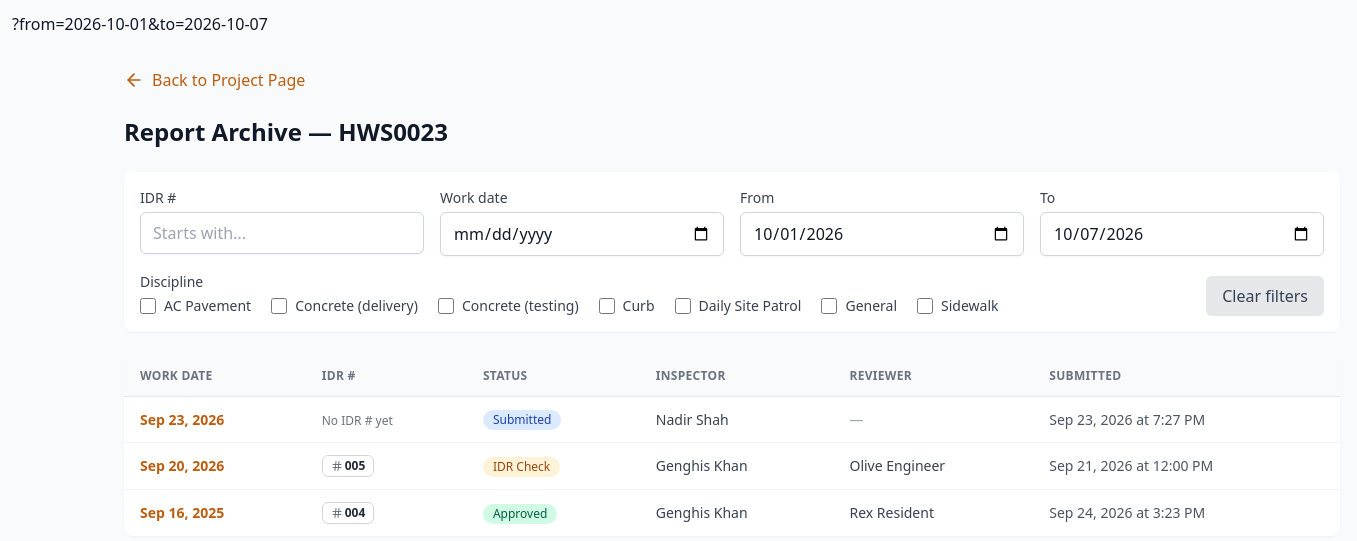
it: ReportArchivePage — filters › a work date goes in the URL and replaces a range; a range replaces a work date
Expected: the button "Sep 23, 2026" is shown, [140, 410, 224, 430]
Type "2026-10-04" into the date field labelled "Work date" at (582, 234), box [440, 212, 724, 256]
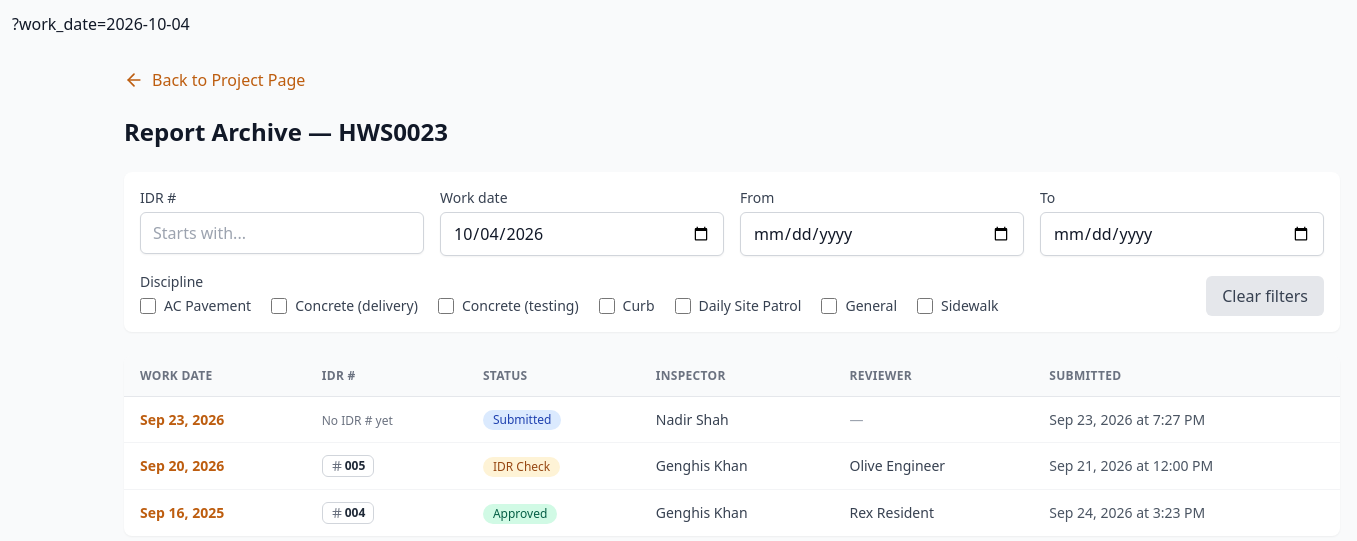
Now the text with test id "archive-url" reads "?work_date=2026-10-04", box [12, 13, 190, 35]
Type "2026-10-02" into the date field labelled "From" at (882, 234), box [740, 212, 1024, 256]
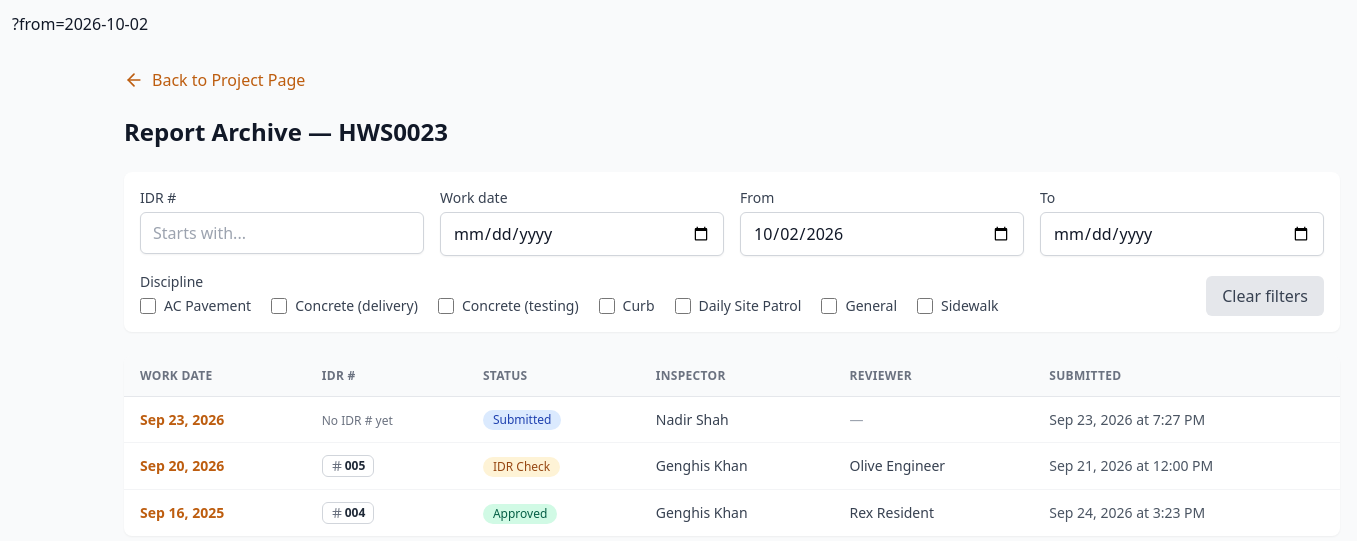
Now the text with test id "archive-url" reads "?from=2026-10-02", box [12, 13, 148, 35]
Type "2026-10-09" into the date field labelled "To" at (1182, 234), box [1040, 212, 1324, 256]
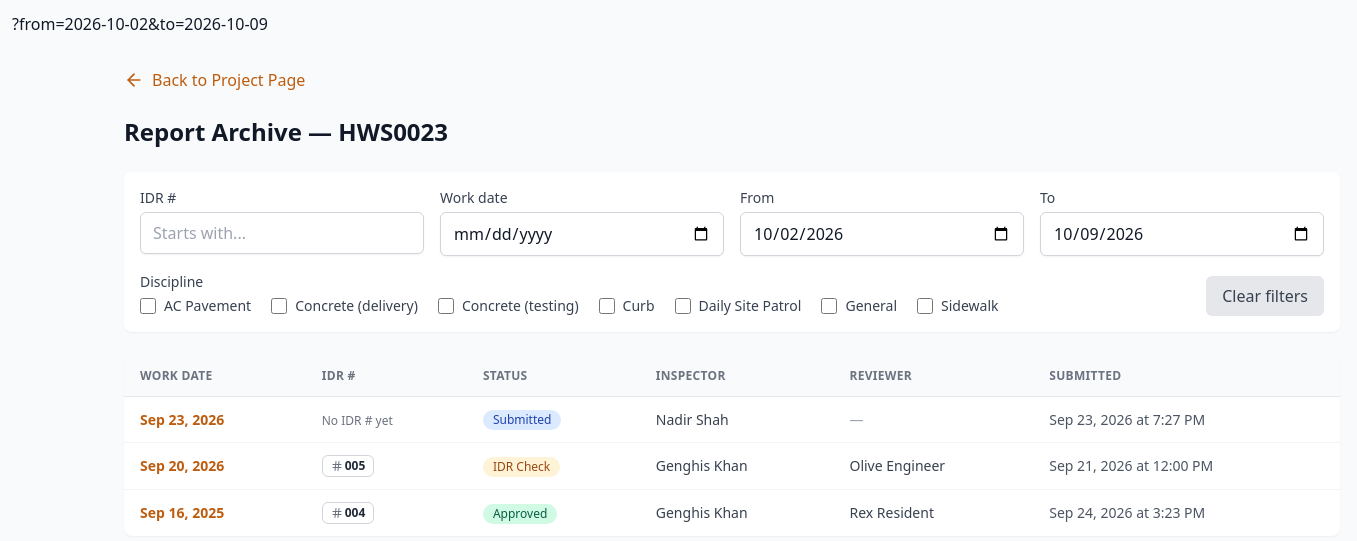
Now the text with test id "archive-url" reads "?from=2026-10-02&to=2026-10-09", box [12, 13, 268, 35]
